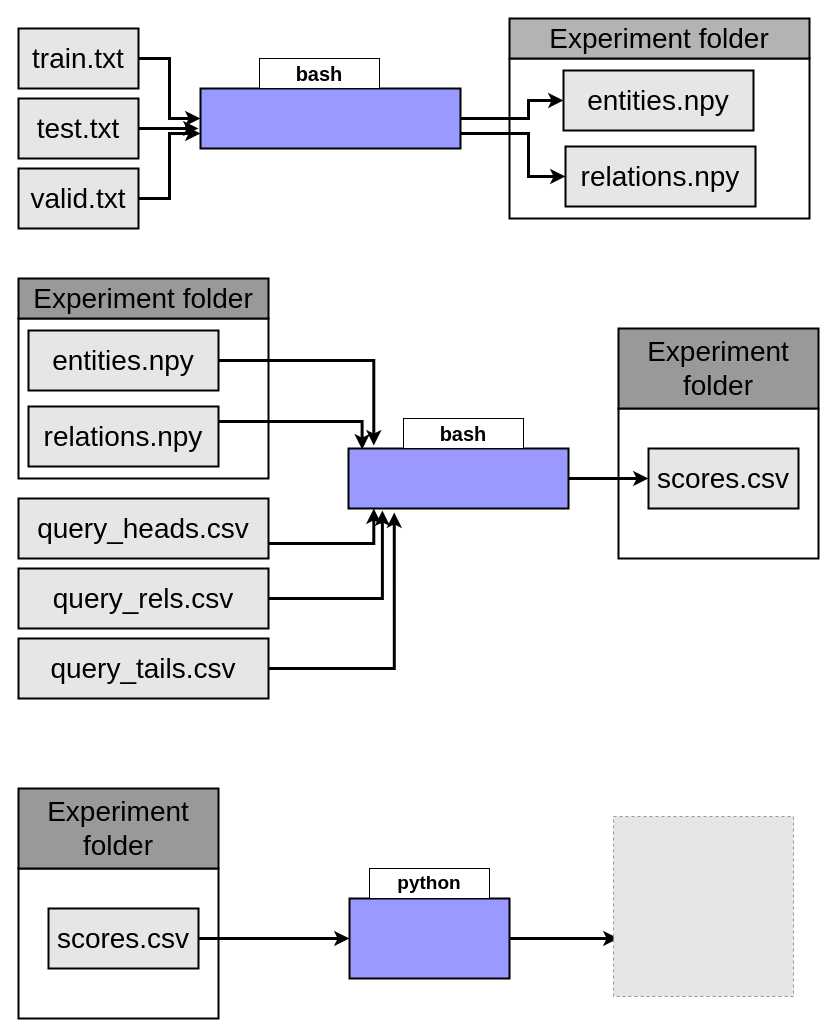
Image size: 836x1036. Some labels were removed from this diagram. Grey dashed boxes stand in for pictures. Here are the shapes that lost their labels. From the top down, the box of each, then its label:
(199, 87, 461, 149): make_embedding
(347, 447, 569, 509): make_query
(348, 897, 510, 979): hits
